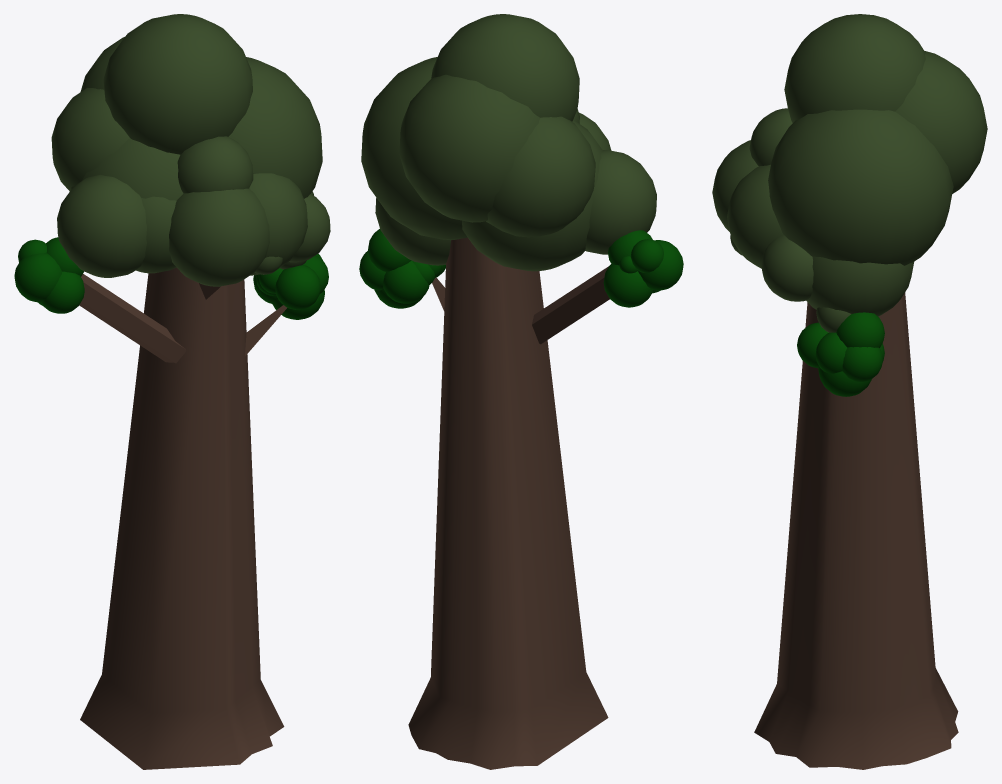
File: tree1.fbx
3 renders of one model, left to right at view 1: azimuth 30°, elevation 25°; view 2: azimuth 150°, elevation 25°; view 3: azimuth 270°, elevation 25°, orthographic.
Parts seen in each view (by area): view 1: polySurface58, polySurface37, polySurface40, polySurface39, polySurface29, polySurface30, polySurface32, polySurface44, polySurface41, pasted__polySurface23, polySurface31, polySurface25 (+6 smaller); view 2: polySurface58, polySurface33, polySurface37, polySurface30, polySurface39, polySurface29, polySurface44, pasted__polySurface23, polySurface38, polySurface27, polySurface49, polySurface25 (+4 smaller); view 3: polySurface58, polySurface39, polySurface37, polySurface33, polySurface38, polySurface41, polySurface36, polySurface40, polySurface32, polySurface52, polySurface47, polySurface53 (+3 smaller).
Part boxes in pixels (bbox=[...]): polySurface58: bbox=[80, 267, 284, 769]; polySurface37: bbox=[103, 14, 252, 154]; polySurface40: bbox=[169, 188, 269, 286]; polySurface39: bbox=[228, 57, 322, 198]; polySurface29: bbox=[57, 174, 146, 277]; polySurface30: bbox=[51, 87, 129, 191]; polySurface32: bbox=[177, 136, 253, 193]; polySurface44: bbox=[71, 138, 183, 200]; polySurface41: bbox=[249, 173, 307, 275]; pasted__polySurface23: bbox=[79, 274, 186, 363]; polySurface31: bbox=[136, 196, 176, 273]; polySurface25: bbox=[14, 253, 61, 302]; polySurface58: bbox=[408, 237, 608, 769]; polySurface33: bbox=[399, 74, 539, 222]; polySurface37: bbox=[431, 14, 579, 121]; polySurface30: bbox=[486, 116, 595, 237]; polySurface39: bbox=[361, 57, 467, 240]; polySurface29: bbox=[585, 150, 656, 254]; polySurface44: bbox=[462, 120, 602, 271]; pasted__polySurface23: bbox=[532, 266, 609, 344]; polySurface38: bbox=[375, 198, 450, 265]; polySurface27: bbox=[603, 264, 653, 307]; polySurface49: bbox=[383, 260, 429, 303]; polySurface25: bbox=[638, 240, 683, 290]; polySurface58: bbox=[754, 292, 958, 769]; polySurface39: bbox=[768, 109, 953, 265]; polySurface37: bbox=[784, 14, 925, 122]; polySurface33: bbox=[895, 51, 987, 193]; polySurface38: bbox=[806, 256, 913, 316]; polySurface41: bbox=[727, 164, 783, 268]; polySurface36: bbox=[761, 235, 813, 301]; polySurface40: bbox=[712, 140, 758, 231]; polySurface32: bbox=[749, 108, 792, 165]; polySurface52: bbox=[836, 312, 884, 347]; polySurface47: bbox=[842, 347, 882, 381]; polySurface53: bbox=[815, 332, 847, 373].
Size of the model in its own units: 218 by 472 by 167.
